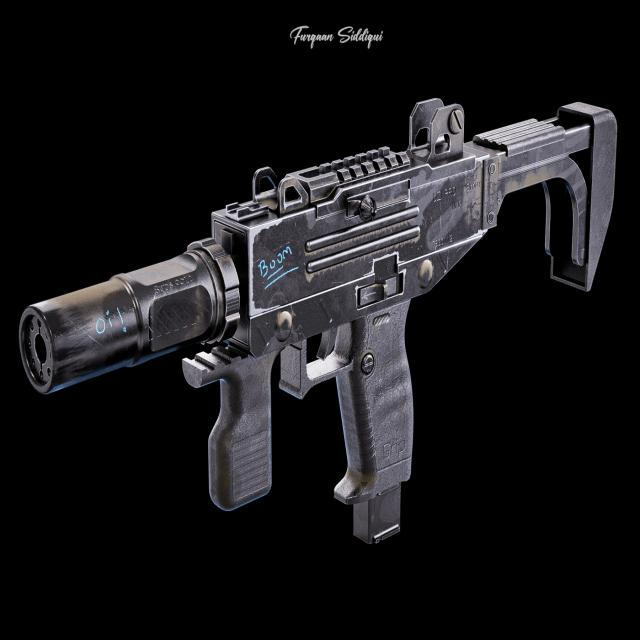SMG: (16, 99, 619, 550)
